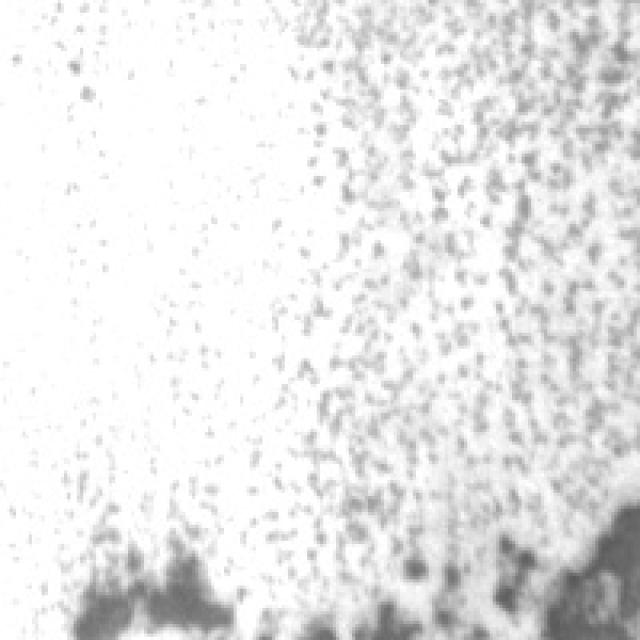patches: (493, 499, 637, 637), (61, 528, 227, 637)
pitted_surface: (234, 0, 634, 554)
